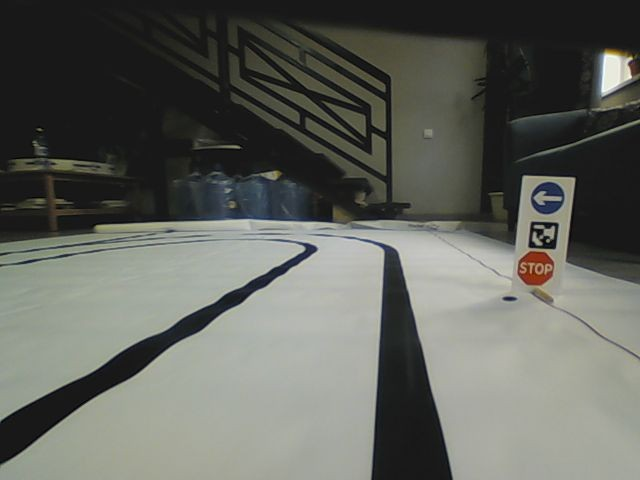Stop: (514, 250, 556, 289)
